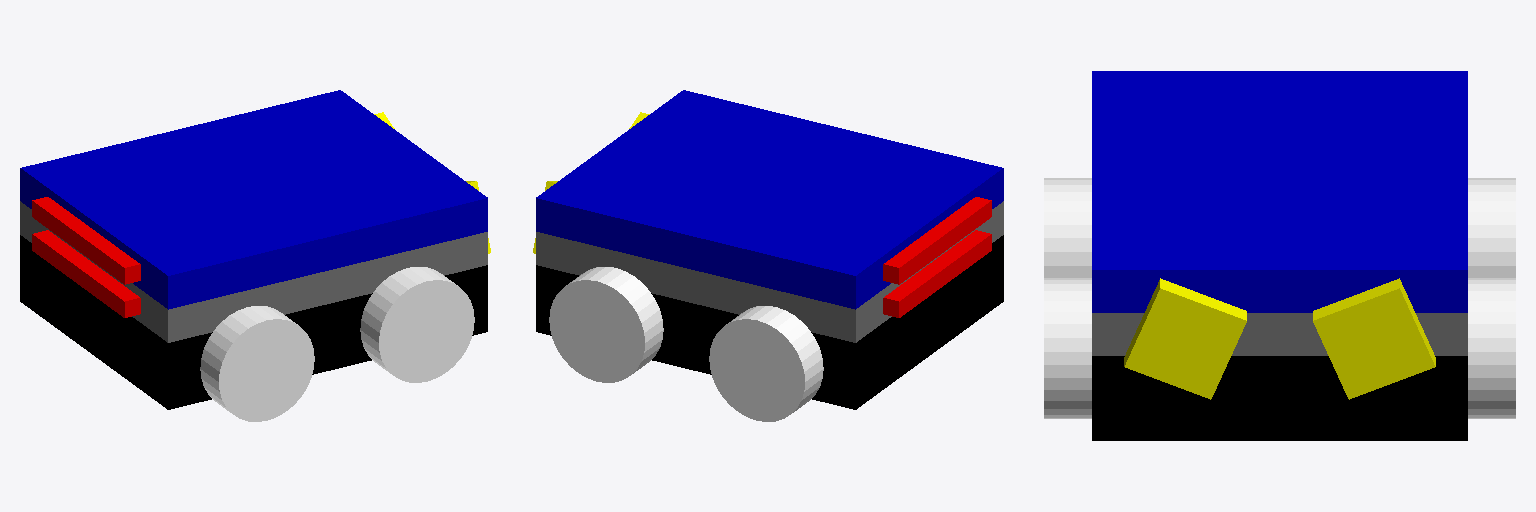
The robot description file, URDF, robot "simple_robot":
<?xml version="1.0"?>
<robot name="simple_robot">

  <!-- colors definitions -->

  <material name="blue">
    <color rgba="0 0 0.8 1"/>
  </material>

  <material name="black">
    <color rgba="0 0 0 1"/>
  </material>

  <material name="gray">
    <color rgba="0.5 0.5 0.5 1"/>
  </material>

  <material name="white">
    <color rgba="1 1 1 1"/>
  </material>

  <material name="red">
    <color rgba="1 0 0 1"/>
  </material>

  <material name="yellow">
    <color rgba="1 1 0 1"/>
  </material>

  <!-- links definitions -->

  <!-- lvls definitions -->

  <link name="base_link">
    <visual>
      <geometry>
            <box size="1 0.8 0.2" />
      </geometry>
      <material name="black"/>
    </visual>
    <collision>
      <geometry>
            <box size="1 0.8 0.2"/>
      </geometry>
    </collision>
  </link>

  <link name="lvl_0">
    <visual>
      <geometry>
            <box size="1 0.8 0.1" />
      </geometry>
      <material name="gray"/>
    </visual>
  </link>

  <link name="lvl_1">
    <visual>
      <geometry>
            <box size="1 0.8 0.1" />
      </geometry>
      <material name="blue"/>
    </visual>
  </link>

  <!-- headlights definitions -->

  <link name="headlight_left">
    <visual>
      <geometry>
            <box size="0.05 0.2 0.2" />
      </geometry>
      <material name="yellow"/>
      <origin rpy="-0.39269 0 0" xyz="0 0 0"/>
    </visual>
  </link>

  <link name="headlight_rigth">
    <visual>
      <geometry>
            <box size="0.05 0.2 0.2" />
      </geometry>
      <origin rpy="0.39269 0 0" xyz="0 0 0"/>
      <material name="yellow"/>
    </visual>
  </link>

  <link name="headlight_back_top">
    <visual>
      <geometry>
            <box size="0.05 0.5 0.05" />
      </geometry>
      
      <material name="red"/>
    </visual>
  </link>

  <link name="headlight_back_bottom">
    <visual>
      <geometry>
            <box size="0.05 0.5 0.05" />
      </geometry>
      
      <material name="red"/>
    </visual>
  </link>

  <!-- wheels definitions -->

  <link name="wheel_left_top">
    <visual>
      <geometry>
            <cylinder length="0.1" radius="0.15"/>
      </geometry>
      <material name="white"/>
      <origin rpy="1.57075 0 0" xyz="0 0 0"/>
    </visual>
  </link>

  <link name="wheel_left_bottom">
    <visual>
      <geometry>
            <cylinder length="0.1" radius="0.15"/>
      </geometry>
      <material name="white"/>
      <origin rpy="1.57075 0 0" xyz="0 0 0"/>
    </visual>
  </link> 

  <link name="wheel_rigth_top">
    <visual>
      <geometry>
            <cylinder length="0.1" radius="0.15"/>
      </geometry>
      <material name="white"/>
      <origin rpy="1.57075 0 0" xyz="0 0 0"/>
    </visual>
  </link> 
  
  <link name="wheel_rigth_bottom">
    <visual>
      <geometry>
            <cylinder length="0.1" radius="0.15"/>
      </geometry>
      <material name="white"/>
      <origin rpy="1.57075 0 0" xyz="0 0 0"/>
    </visual>
  </link> 

  <!-- beacon !--> 

  <link name="beacon_base">
    <visual>
      <geometry>
            <cylinder length="0.05" radius="0.25"/>
      </geometry>
      <material name="yellow"/>
    </visual>
  </link> 

  <link name="beacon">
    <visual>
      <geometry>
            <cylinder length="0.2" radius="0.2"/>
      </geometry>
      <material name="yellow"/>
    </visual>
  </link> 

  <link name="beacon_light">
    <visual>
      <geometry>
            <box size="0.05 0.05 0.05"/>
      </geometry>
      <material name="yellow"/>
    </visual>
  </link> 


  <!-- joint definitions -->

  <joint name="base_lvl_0" type="fixed">
    <parent link="base_link"/>
    <child link="lvl_0"/>
    <origin xyz="0 0 0.15"/>
  </joint>

  <joint name="base_lvl_1" type="fixed">
    <parent link="base_link"/>
    <child link="lvl_1"/>
    <origin xyz="0 0 0.25"/>
  </joint>

  <joint name="lvl_0_headlight_left" type="fixed">
    <parent link="lvl_0"/>
    <child link="headlight_left"/>
    <origin xyz="0.525 -0.20 0.0"/>
  </joint>

  <joint name="lvl_0_headlight_rigth" type="fixed">
    <parent link="lvl_0"/>
    <child link="headlight_rigth"/>
    <origin xyz="0.525 0.20 0.0"/>
  </joint>

  <joint name="lvl_0_headlight_back_bottom" type="fixed">
    <parent link="lvl_0"/>
    <child link="headlight_back_bottom"/>
    <origin xyz="-0.525 0.0 0.0"/>
  </joint>

  <joint name="lvl_1_headlight_back_top" type="fixed">
    <parent link="lvl_1"/>
    <child link="headlight_back_top"/>
    <origin xyz="-0.525 0.0 0.0"/>
  </joint>

  <joint name="base_wheel_left_top" type="continuous">
    <axis rpy="0 0 0" xyz="0 1 0"/>
    <parent link="base_link"/>
    <child link="wheel_left_top"/>
    <origin xyz="0.25 0.45 0.0"/>
  </joint>

  <joint name="base_wheel_left_bottom" type="continuous">
    <axis rpy="0 0 0" xyz="0 1 0"/>
    <parent link="base_link"/>
    <child link="wheel_left_bottom"/>
    <origin xyz="-0.25 0.45 0.0"/>
  </joint>

  <joint name="base_wheel_rigth_top" type="continuous">
    <axis rpy="0 0 0" xyz="0 1 0"/>
    <parent link="base_link"/>
    <child link="wheel_rigth_top"/>
    <origin xyz="0.25 -0.45 0.0"/>
  </joint>

  <joint name="base_wheel_rigth_bottom" type="continuous">
    <axis rpy="0 0 0" xyz="0 1 0"/>
    <parent link="base_link"/>
    <child link="wheel_rigth_bottom"/>
    <origin xyz="-0.25 -0.45 0.0"/>
  </joint>

  <joint name="base_beacon_trans" type="prismatic">
    <axis rpy="0 0 0" xyz="0 0 1"/>
    <parent link="base_link"/>
    <child link="beacon_base"/>
    <limit effort="1000.0" lower="0" upper="0.30" velocity="0.5"/>
    <origin rpy="0 0 0" xyz="0 0 0"/>
  </joint>

  <joint name="base_beacon_rot" type="continuous">
    <axis rpy="0 0 0" xyz="0 0 1"/>
    <parent link="beacon_base"/>
    <child link="beacon"/>
    <limit effort="1000.0" lower="0" upper="0.40" velocity="0.5"/>
    <origin rpy="0 0 0" xyz="0 0 0.1"/>
  </joint>

  <joint name="beacon_light" type="fixed">
    <parent link="beacon"/>
    <child link="beacon_light"/>
    <origin rpy="0 0 0" xyz="0.2 0 0"/>
  </joint>





</robot>

--- What the picture shows (computed from the rendered views, not written in the file) ---
Views: 3 orthographic renders of the robot side by side, from view 1: azimuth 30°, elevation 25°; view 2: azimuth 150°, elevation 25°; view 3: azimuth 270°, elevation 25°.
Model simple_robot with 14 links and 13 joints (5 continuous, 1 prismatic, 7 fixed), rooted at base_link, posed every joint at zero.
Visible links, largest first — view 1: lvl_1, base_link, lvl_0, wheel_rigth_bottom, wheel_rigth_top, headlight_back_top, headlight_back_bottom; view 2: lvl_1, base_link, lvl_0, wheel_left_bottom, wheel_left_top, headlight_back_bottom, headlight_back_top; view 3: lvl_1, base_link, headlight_left, headlight_rigth, lvl_0, wheel_left_top, wheel_rigth_top, wheel_left_bottom, wheel_rigth_bottom.
Boxes of the visible links, x1,y1,x2,y2 form: lvl_1: (20,90,487,309); base_link: (20,235,487,409); lvl_0: (20,201,487,342); wheel_rigth_bottom: (200,306,314,421); wheel_rigth_top: (360,267,474,382); headlight_back_top: (32,197,140,284); headlight_back_bottom: (32,230,140,317); lvl_1: (536,90,1003,309); base_link: (536,235,1003,409); lvl_0: (536,201,1003,342); wheel_left_bottom: (709,306,823,421); wheel_left_top: (549,267,663,382); headlight_back_bottom: (883,230,991,317); headlight_back_top: (883,197,991,284); lvl_1: (1092,71,1467,312); base_link: (1092,356,1467,440); headlight_left: (1124,278,1246,399); headlight_rigth: (1313,278,1435,399); lvl_0: (1092,313,1467,355); wheel_left_top: (1468,278,1515,418); wheel_rigth_top: (1044,278,1091,418); wheel_left_bottom: (1468,178,1515,277); wheel_rigth_bottom: (1044,178,1091,277).
Bounding box of the posed robot: 1.1 × 1 × 0.45 m (x, y, z).
Geometry: primitives only (box / cylinder / sphere), no mesh files.
